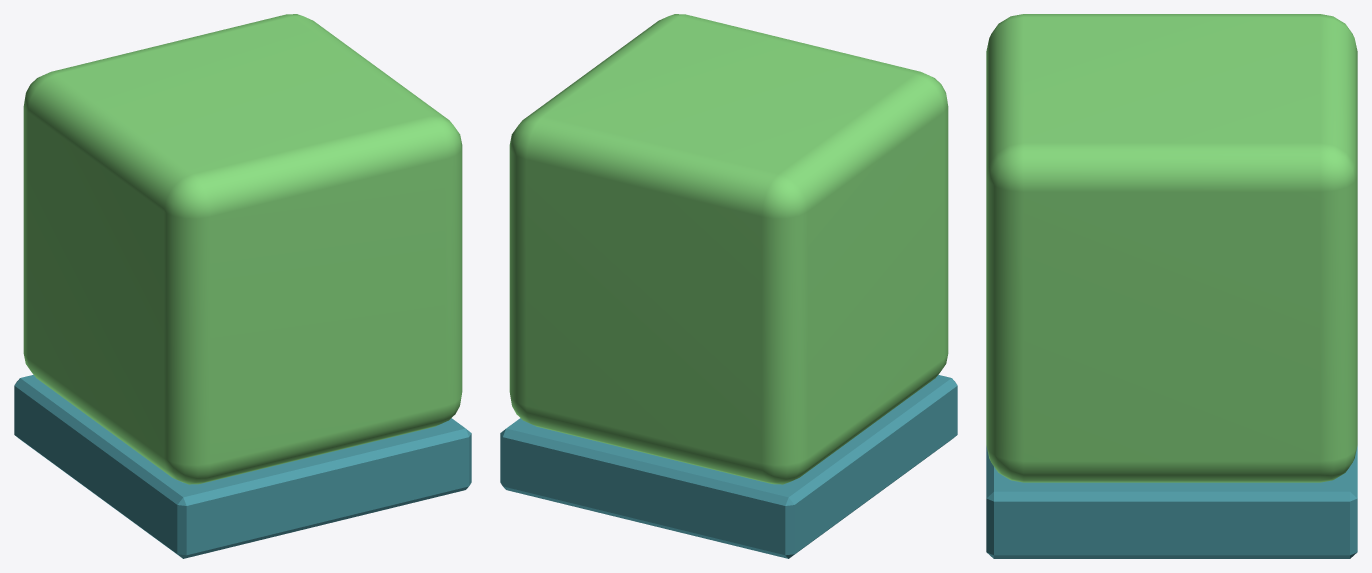
Rendered from Wall.fbx.
The picture shows the model from 3 angles, left to right: view 1: azimuth 30°, elevation 25°; view 2: azimuth 150°, elevation 25°; view 3: azimuth 270°, elevation 25°; orthographic projection. The views are drawn at different scales.
Visible parts, largest first — view 1: pCube2, pCube1; view 2: pCube2, pCube1; view 3: pCube2, pCube1.
Boxes of the visible parts, x1,y1,x2,y2 form: pCube2: (23,14,462,484); pCube1: (14,375,471,558); pCube2: (509,14,948,484); pCube1: (500,375,957,558); pCube2: (986,14,1357,482); pCube1: (986,446,1357,558).
Bounding box in the file's own units: 1 × 1.2 × 1.
